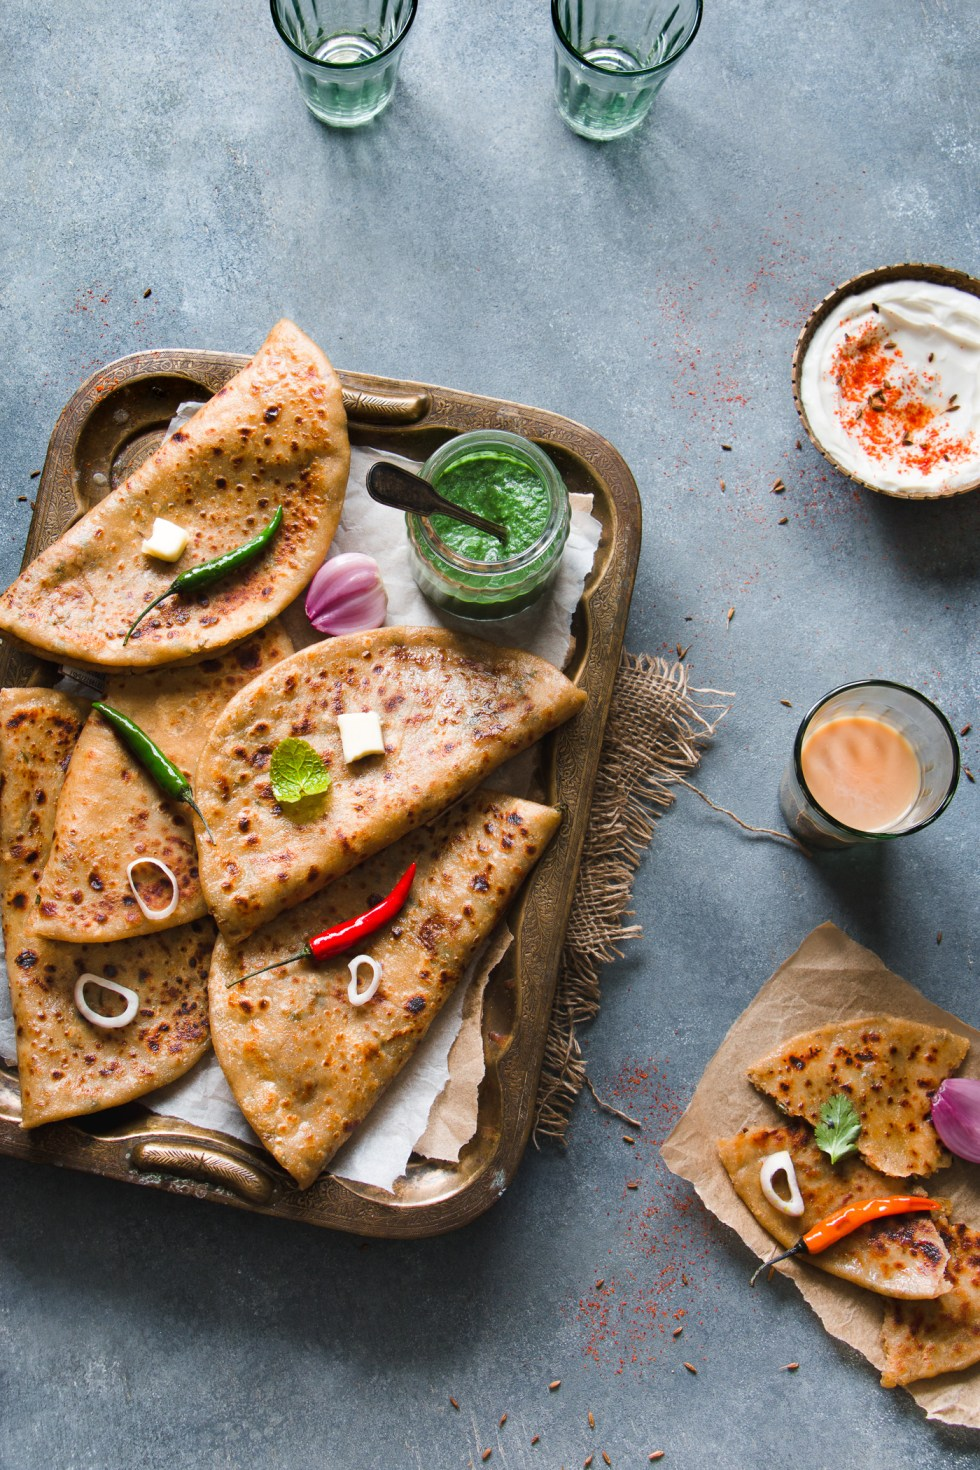aloo_paratha: (8, 331, 555, 1193), (713, 1010, 980, 1390)
